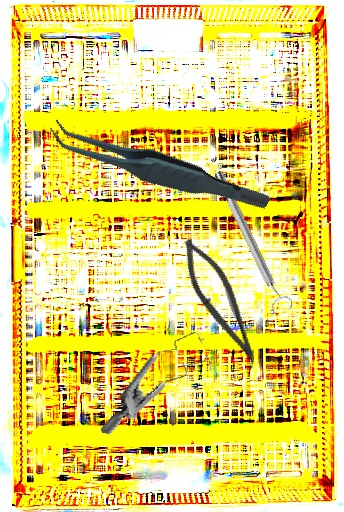Fixation Ring: (207, 166, 296, 318)
Micro Scissor: (169, 232, 274, 371)
Speculum: (100, 314, 221, 458)
Tissue Forceps: (44, 79, 273, 255)
